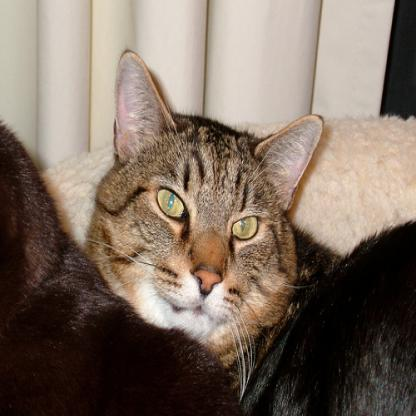Dog: (63, 42, 328, 366)
